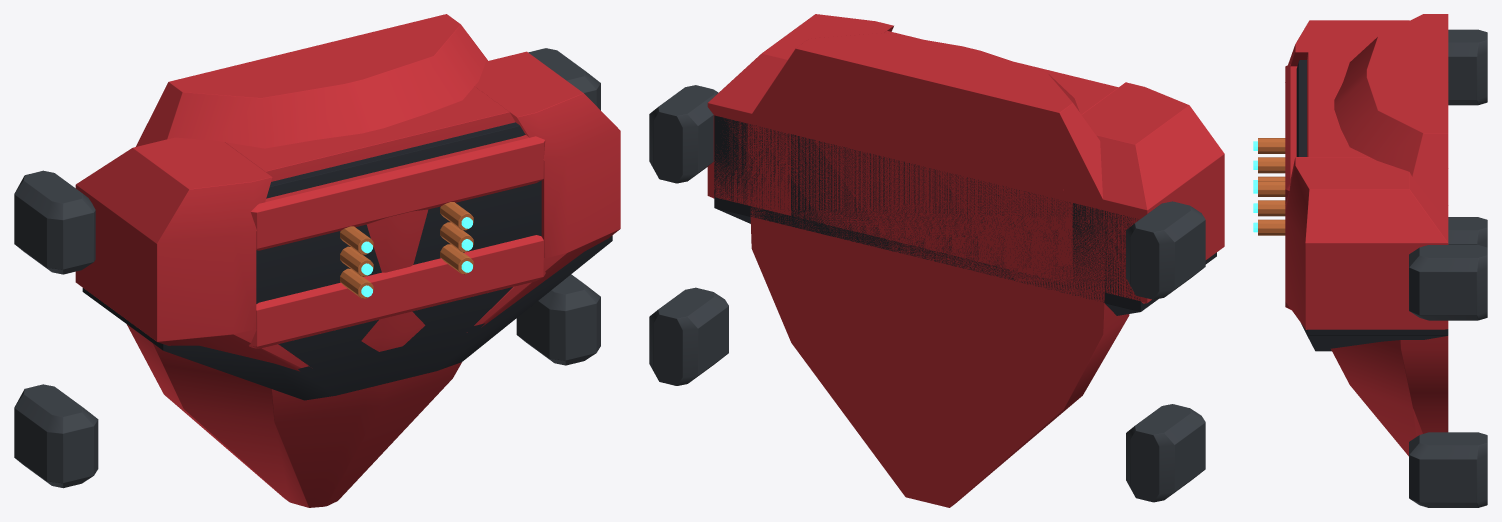
File: LowerArmBack_Set06_Voltaic.fbx
3 views of the same model, side by side, from view 1: azimuth 30°, elevation 25°; view 2: azimuth 150°, elevation 25°; view 3: azimuth 270°, elevation 25° (orthographic). The views are drawn at different scales.
Parts seen in each view (by area): view 1: LowerArmBack_Set06_Voltaic; view 2: LowerArmBack_Set06_Voltaic; view 3: LowerArmBack_Set06_Voltaic.
Boxes of the visible parts, bbox=[...] form: LowerArmBack_Set06_Voltaic: bbox=[14, 14, 620, 507]; LowerArmBack_Set06_Voltaic: bbox=[649, 14, 1224, 507]; LowerArmBack_Set06_Voltaic: bbox=[1253, 14, 1487, 507].
Bounding box in the file's own units: 0.43 × 0.33 × 0.1792.
